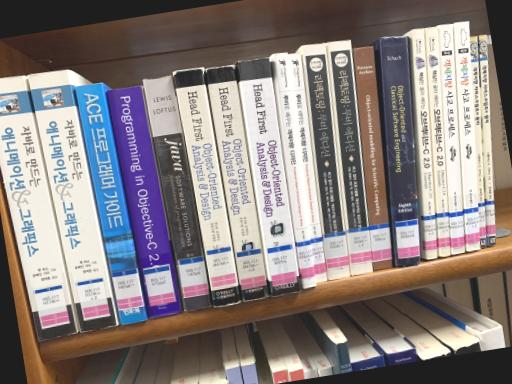book-spine: (28, 70, 116, 331), (0, 75, 77, 341), (105, 86, 180, 317), (74, 82, 145, 324), (143, 74, 212, 311), (173, 67, 240, 306), (239, 57, 301, 297), (206, 64, 268, 301), (301, 43, 349, 280), (327, 40, 371, 275), (274, 52, 315, 289), (380, 36, 420, 265), (352, 46, 392, 270), (288, 53, 326, 281), (426, 25, 451, 256), (440, 23, 464, 254), (455, 21, 479, 251), (414, 28, 436, 260), (478, 35, 495, 245), (470, 35, 486, 249)
